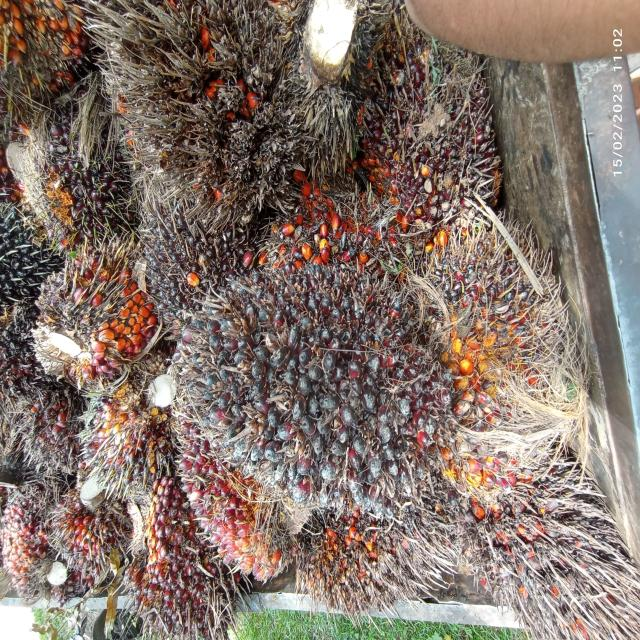fraksi 00: (154, 223, 461, 542), (422, 208, 594, 468), (364, 27, 512, 227), (32, 111, 128, 233), (44, 490, 130, 578)
fraksi 1: (137, 481, 210, 632)
fraksi 3: (162, 442, 316, 609)
fraksi 4: (115, 0, 322, 226), (34, 241, 172, 379)
